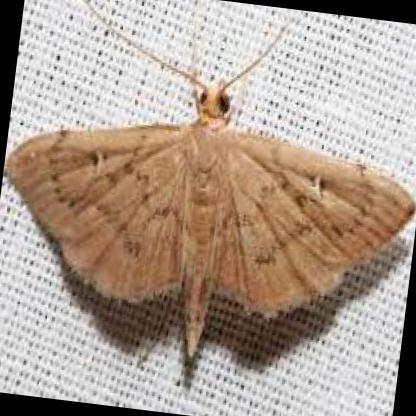Leaf Webber: (5, 77, 416, 365)
